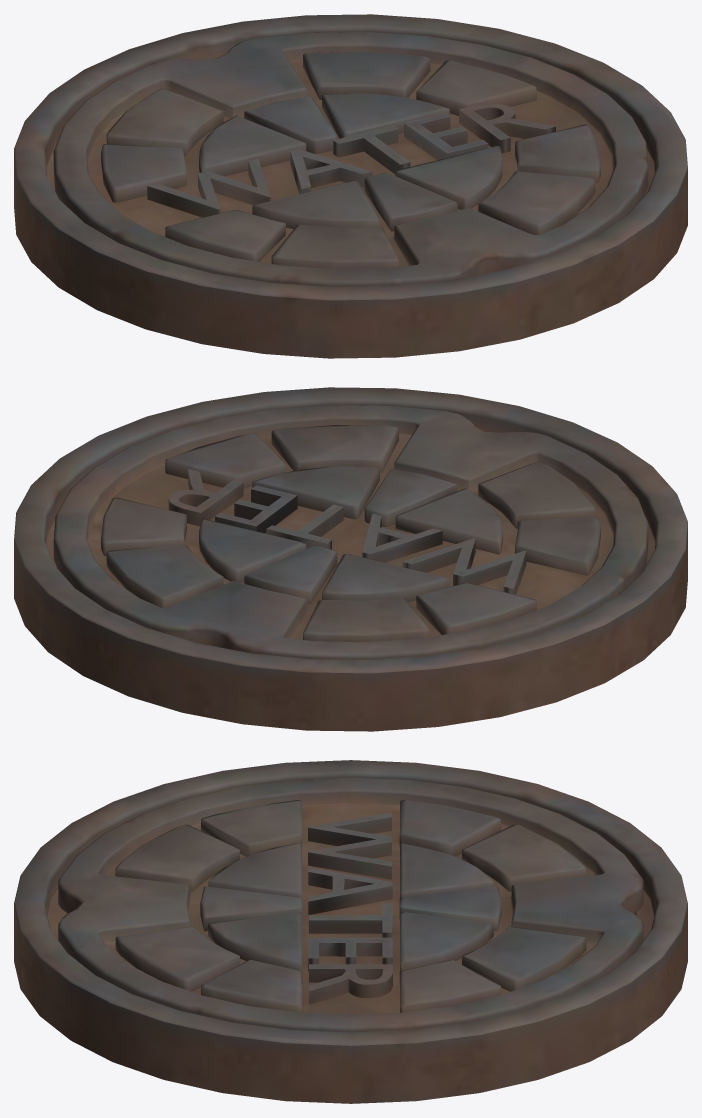
Rendered from water_manhole_cover.glb.
The picture shows the model from 3 angles, top to bottom: view 1: azimuth 30°, elevation 25°; view 2: azimuth 150°, elevation 25°; view 3: azimuth 270°, elevation 25°; orthographic projection.
Parts seen in each view (by area): view 1: water_manhole_cover_frame; view 2: water_manhole_cover_frame; view 3: water_manhole_cover_frame.
Part boxes in pixels (x1,y1,x2,y2): water_manhole_cover_frame: (14,14,687,358); water_manhole_cover_frame: (14,387,687,731); water_manhole_cover_frame: (14,760,687,1103).
Bounding box in the file's own units: 0.6908 × 0.0676 × 0.6908.
1 material, 1 textured.
